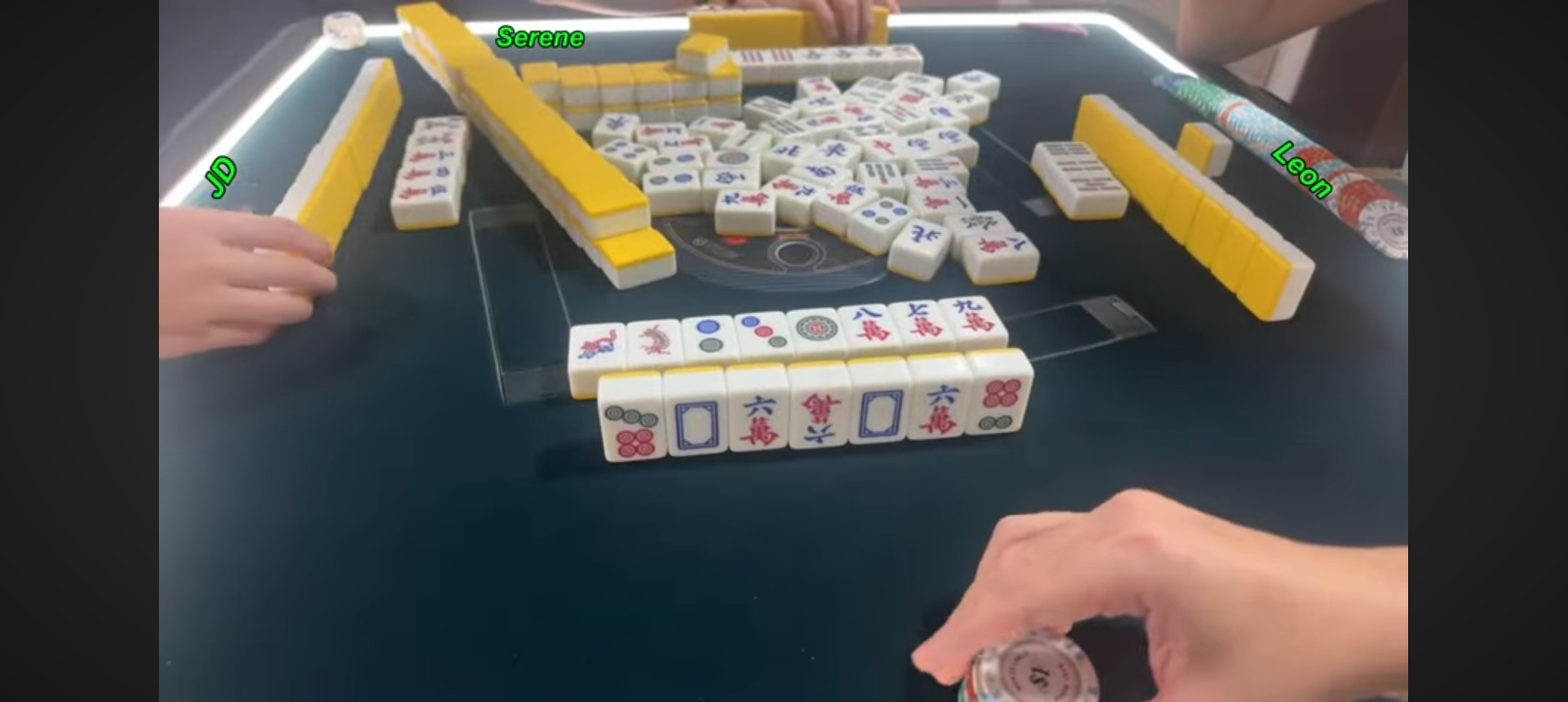TILE: (598, 402, 664, 461), (663, 397, 729, 454), (728, 392, 790, 451), (972, 376, 1035, 433), (791, 390, 854, 446), (911, 381, 970, 438), (854, 385, 912, 442), (569, 323, 628, 368), (681, 316, 736, 361), (839, 304, 896, 347), (629, 319, 682, 365), (945, 297, 1009, 335), (787, 309, 842, 353), (893, 301, 949, 344), (734, 313, 791, 355)
